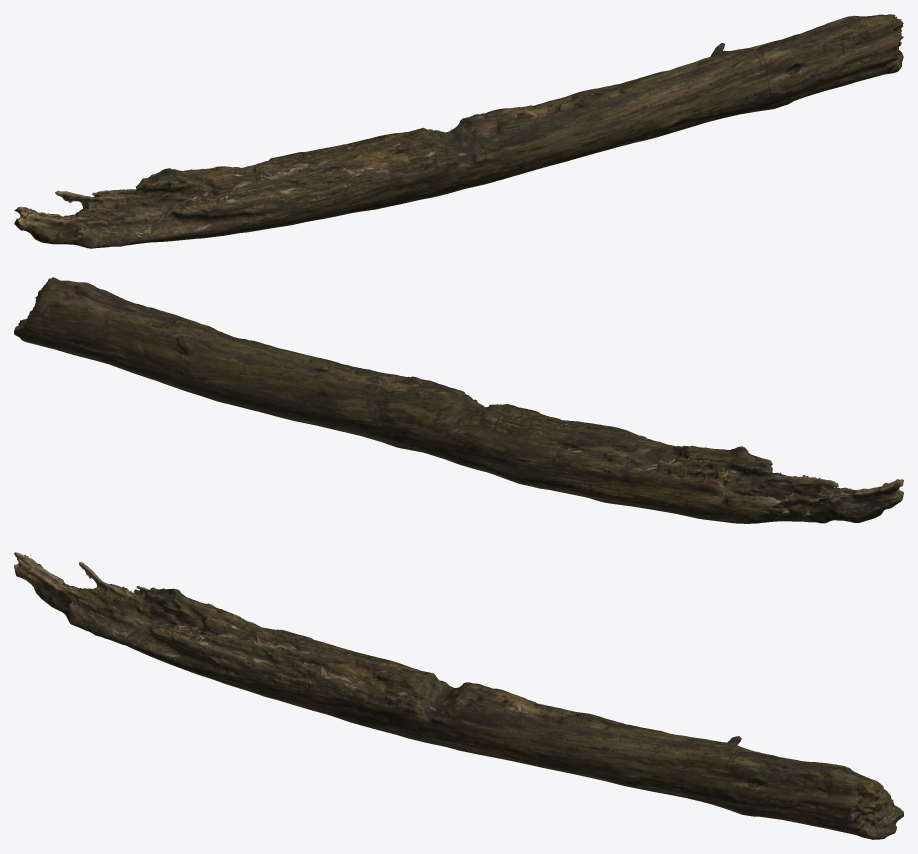
File: log_01.glb
3 views of the same model, one above another, from view 1: azimuth 30°, elevation 25°; view 2: azimuth 150°, elevation 25°; view 3: azimuth 330°, elevation 25° (orthographic).
Parts seen in each view (by area): view 1: dead_tree_trunk; view 2: dead_tree_trunk; view 3: dead_tree_trunk.
Part boxes in pixels (x1,y1,x2,y2): dead_tree_trunk: [14, 14, 903, 248]; dead_tree_trunk: [14, 277, 903, 523]; dead_tree_trunk: [14, 552, 903, 839].
Bounding box in the file's own units: 3.05 × 0.2905 × 0.2775.
Materials: 1 (1 with a texture image).
